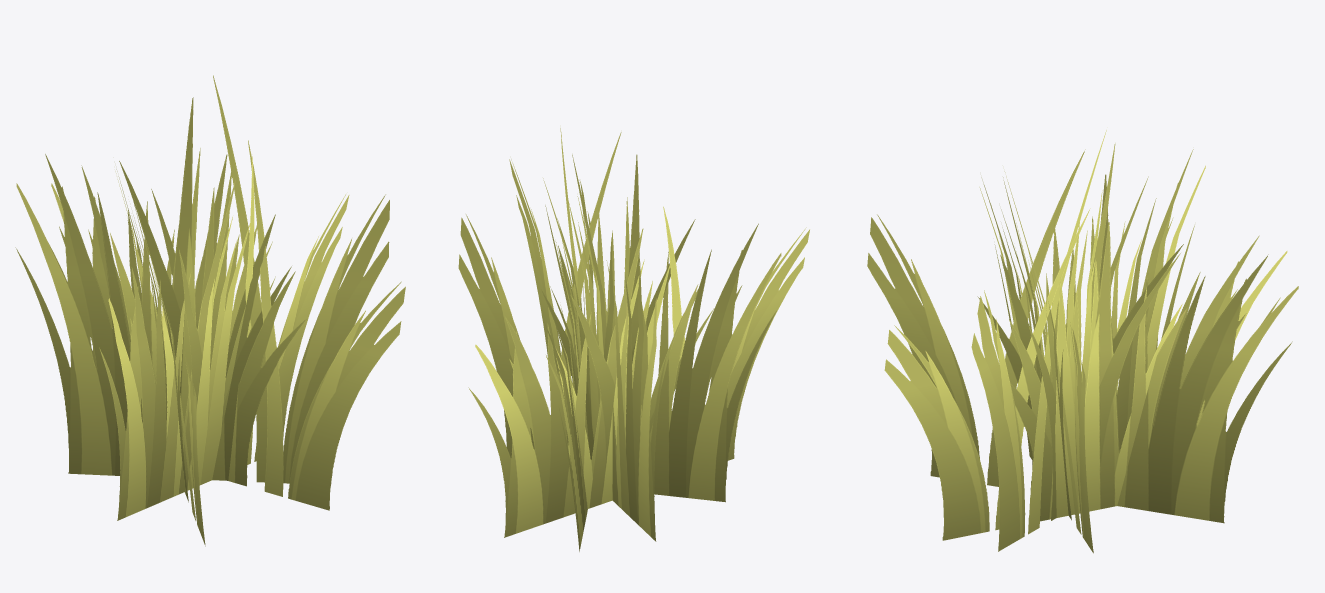
File: savanna_grass_1_mid.glb
The picture shows the model from 3 angles, left to right: view 1: azimuth 30°, elevation 25°; view 2: azimuth 150°, elevation 25°; view 3: azimuth 270°, elevation 25°; orthographic projection. The views are drawn at different scales.
Parts seen in each view (by area): view 1: savanna_grass_1_mid; view 2: savanna_grass_1_mid; view 3: savanna_grass_1_mid.
Part boxes in pixels (x1=…): savanna_grass_1_mid: x1=15, y1=75, x2=405, y2=546; savanna_grass_1_mid: x1=458, y1=128, x2=809, y2=551; savanna_grass_1_mid: x1=867, y1=130, x2=1298, y2=553.
Size of the model in its own units: 0.7507 by 1.02 by 0.9375.
Materials: 1 (1 with a texture image).
